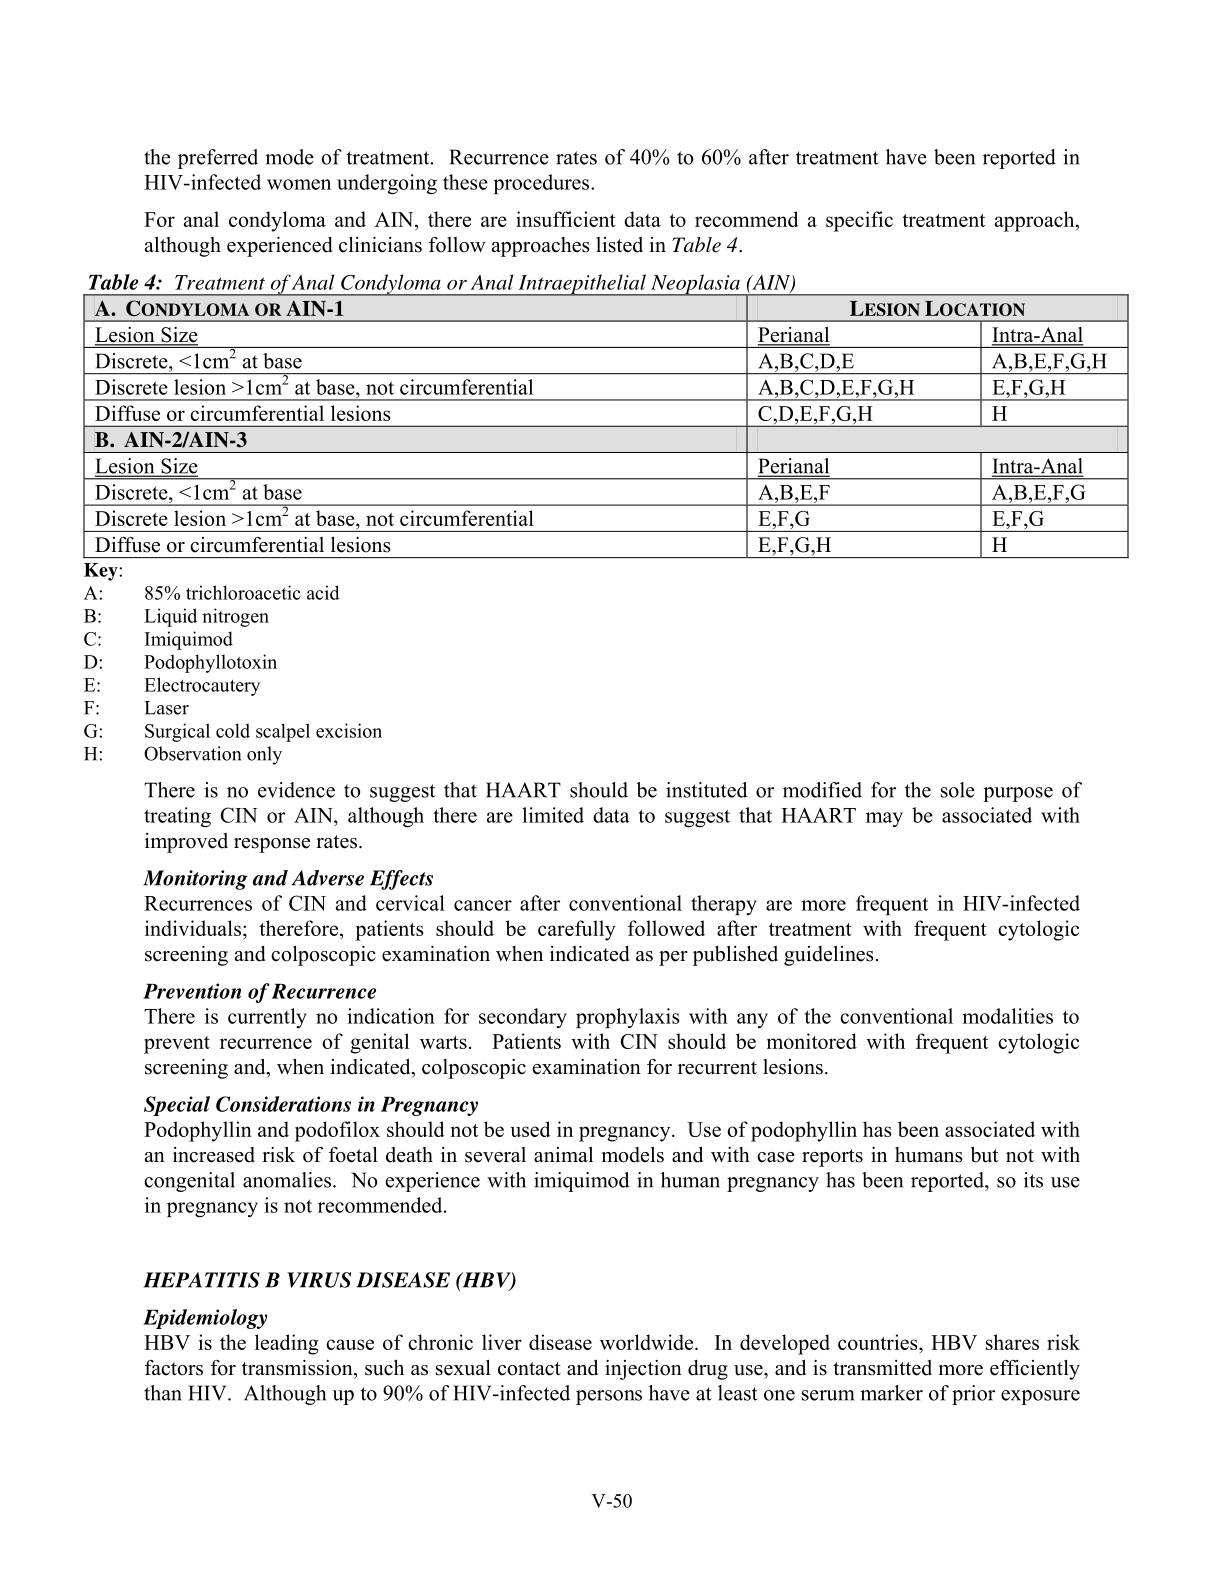merged_cells: (84, 294, 1129, 559)
